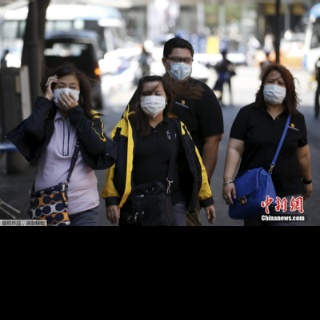with_mask: (52, 80, 80, 109), (261, 76, 288, 104), (140, 88, 165, 118), (166, 53, 192, 81)
